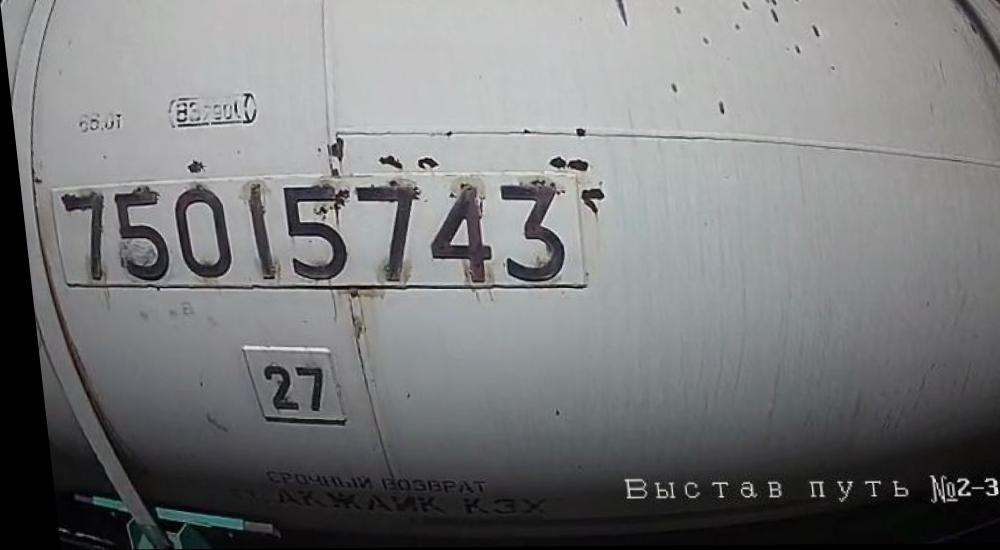Wagon-number: (53, 175, 571, 289)
